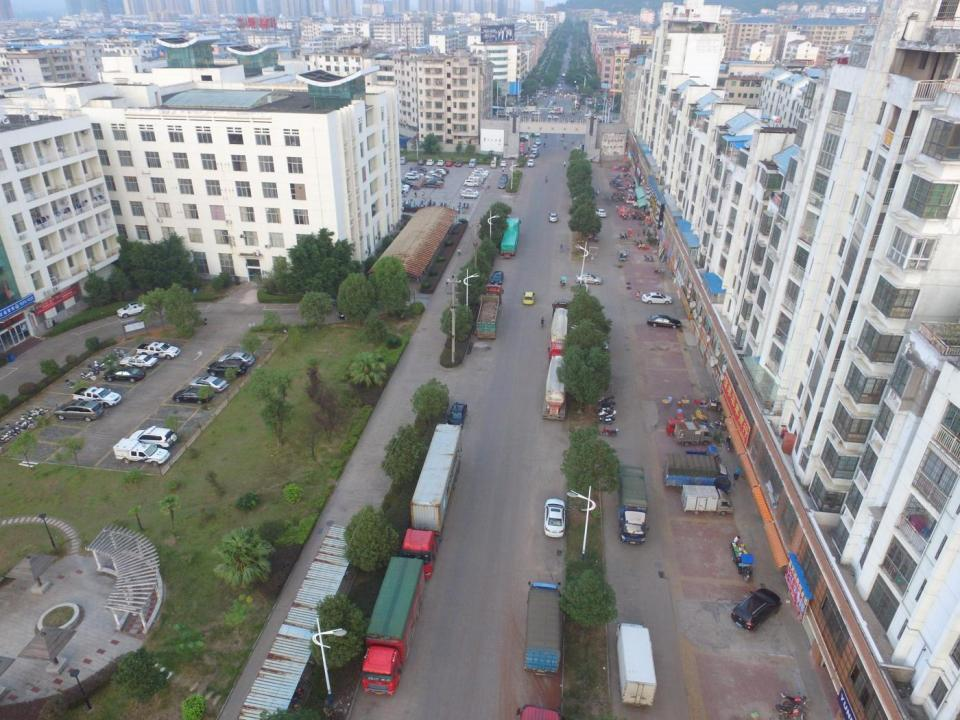car: (730, 588, 782, 632), (127, 425, 177, 448), (543, 498, 568, 538), (206, 358, 248, 377), (186, 375, 230, 393), (102, 366, 147, 382), (216, 351, 255, 368), (172, 388, 213, 404), (337, 302, 371, 321), (445, 402, 468, 430), (116, 301, 152, 318), (120, 354, 159, 369), (647, 314, 682, 329), (642, 292, 673, 305), (575, 272, 602, 285), (422, 178, 444, 189), (490, 270, 504, 285), (522, 292, 535, 305), (460, 190, 477, 199), (460, 188, 479, 196), (423, 174, 444, 181), (408, 167, 426, 175), (469, 172, 486, 180), (407, 170, 424, 178), (471, 168, 490, 175), (425, 177, 444, 184), (428, 169, 447, 176), (463, 179, 479, 187), (428, 172, 444, 180), (404, 172, 420, 180), (433, 167, 450, 174), (411, 165, 428, 172), (594, 209, 607, 218), (499, 172, 509, 183), (526, 158, 535, 168), (444, 159, 455, 167), (548, 213, 557, 222), (425, 158, 435, 166), (498, 179, 505, 189), (454, 160, 464, 167), (436, 159, 444, 166), (417, 158, 424, 166), (499, 160, 507, 166)
truck: (399, 424, 464, 581), (362, 556, 426, 696), (614, 619, 657, 712), (524, 580, 564, 677), (662, 453, 732, 493), (615, 465, 649, 544), (542, 342, 568, 420), (680, 484, 734, 516), (475, 284, 504, 340), (71, 385, 122, 408), (549, 299, 573, 344), (672, 421, 714, 446), (499, 216, 521, 258), (135, 341, 180, 359)
van: (112, 437, 170, 466), (54, 400, 104, 421), (467, 175, 483, 186), (468, 158, 478, 168), (398, 156, 408, 164), (490, 160, 497, 168)
